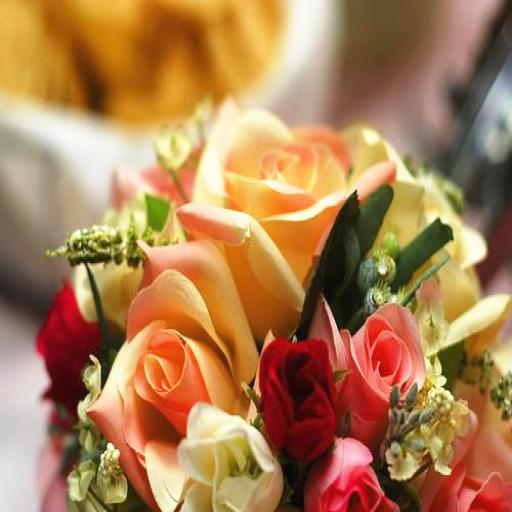rose: (192, 103, 404, 304), (90, 262, 256, 508), (344, 296, 427, 430), (258, 332, 337, 451), (312, 432, 402, 512)
